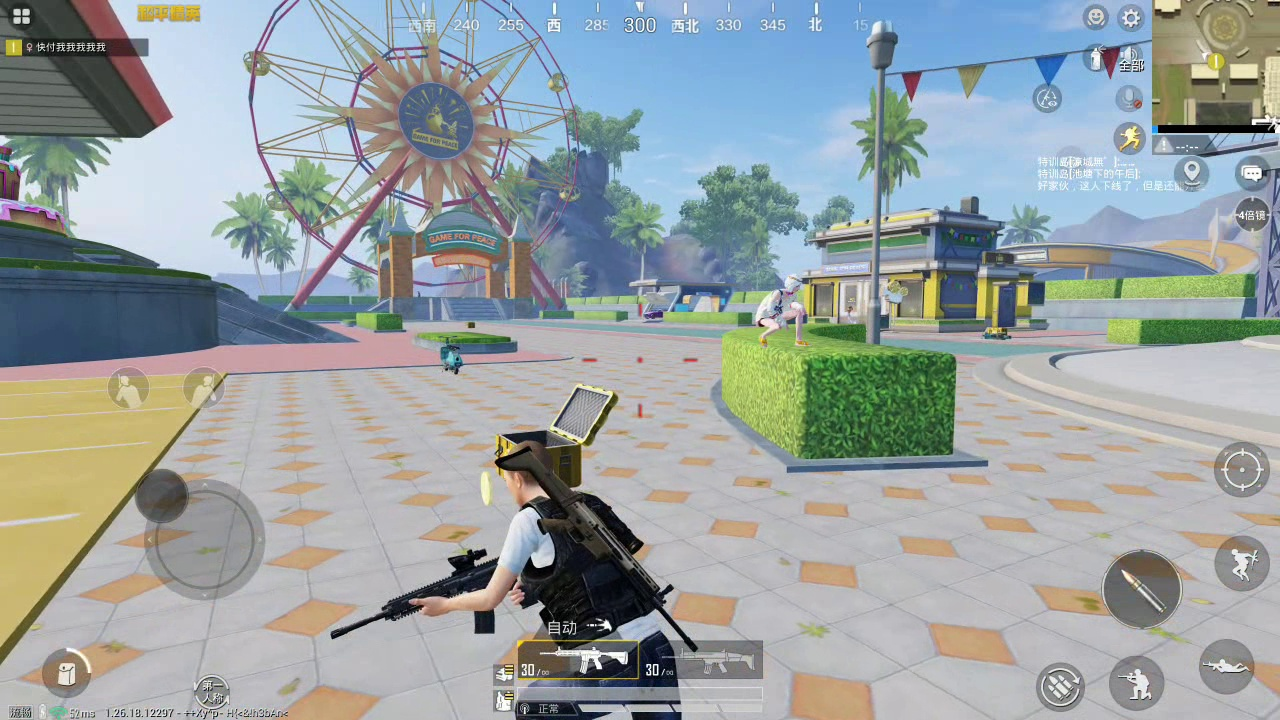enemy: (753, 272, 811, 347)
